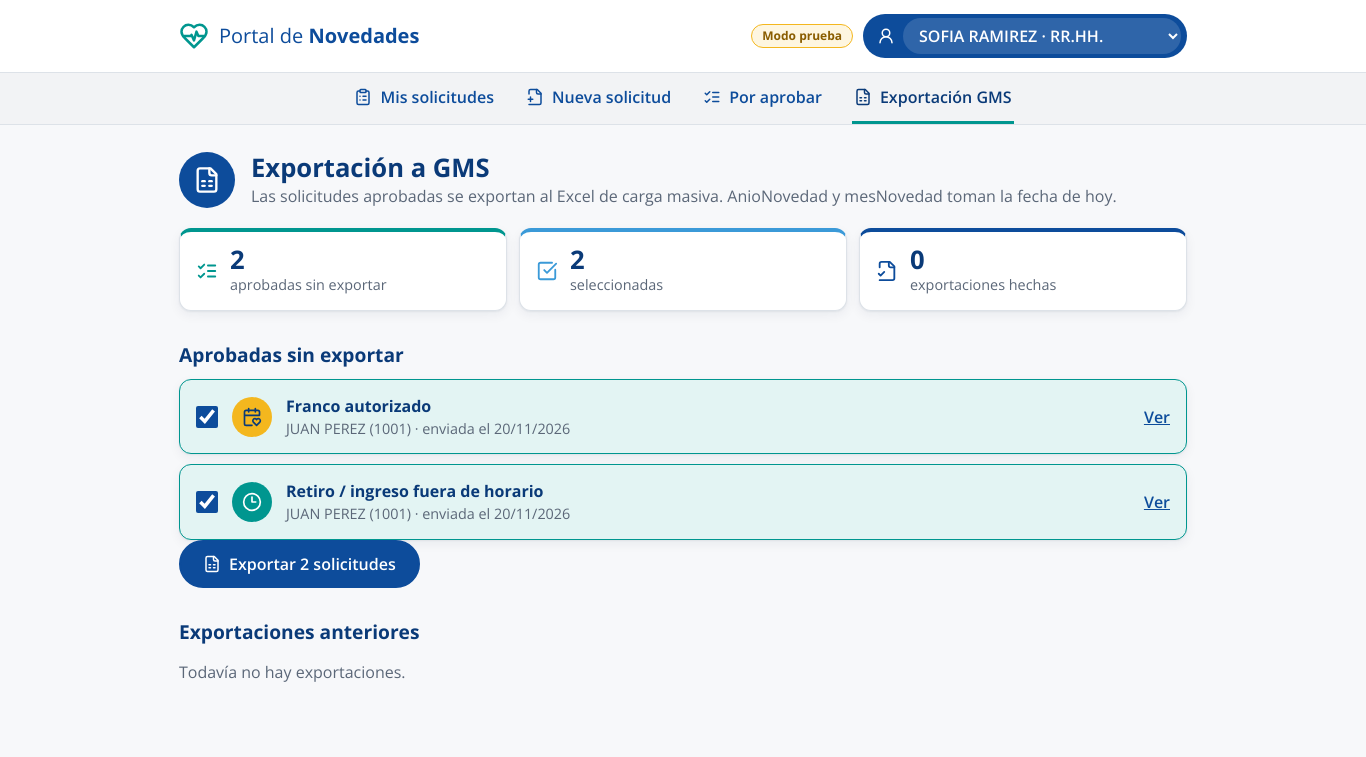
Test case: Exportación a GMS › pide confirmación, exporta las elegidas y muestra el lote
Click the button "Exportar 2 solicitudes" at (299, 564), box left=179, top=540, right=420, bottom=588
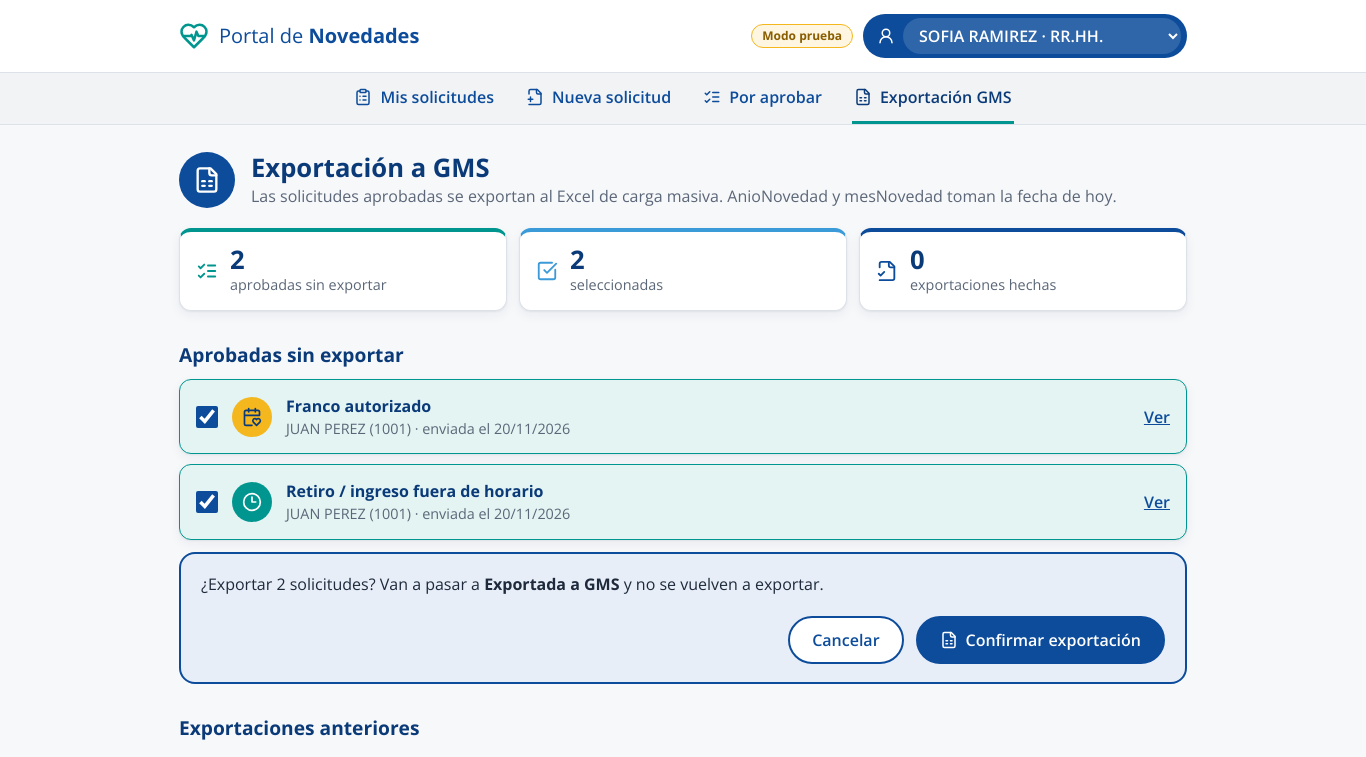
Check: the text "Exportada a GMS" is shown, box left=484, top=573, right=620, bottom=595
Click the button "Confirmar exportación" at (1040, 640), box left=916, top=616, right=1165, bottom=664
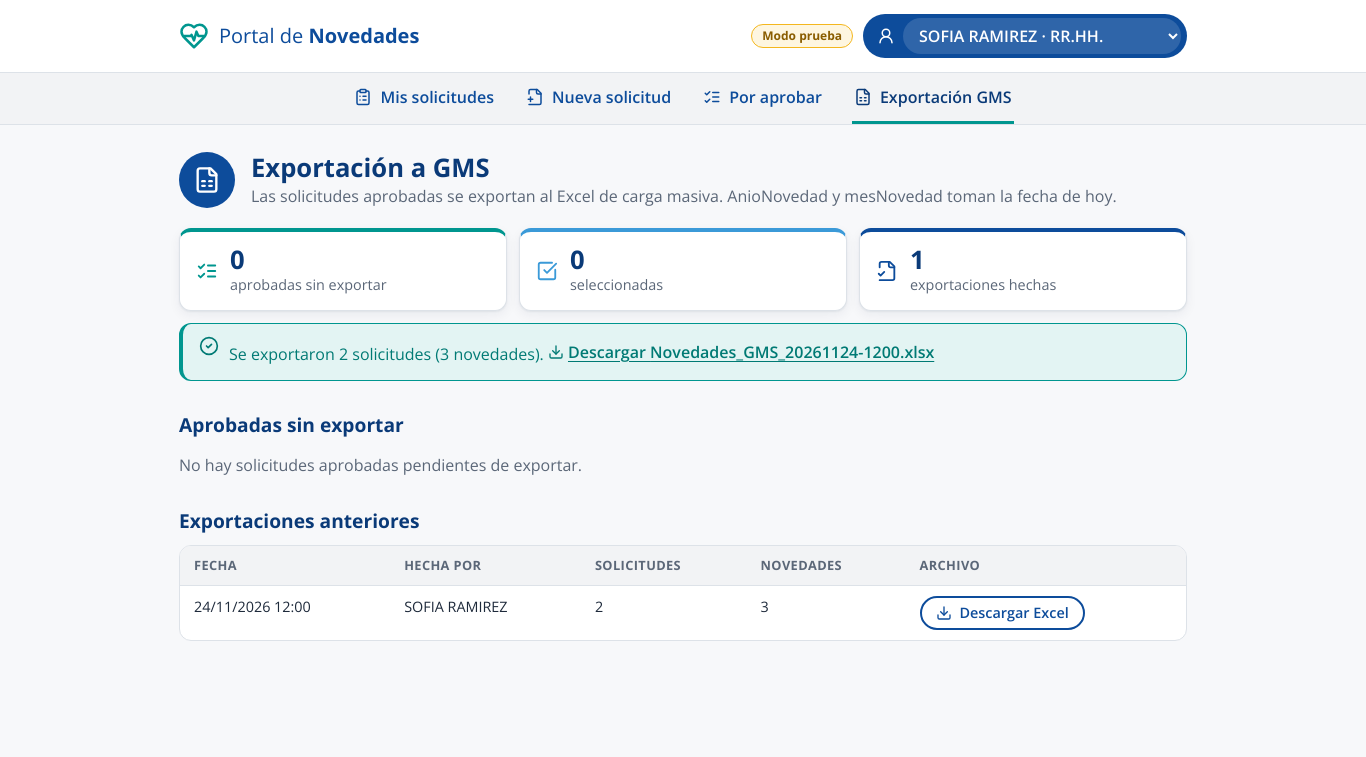
Check: the text "Se exportaron 2 solicitudes (3 novedades)" is shown, box left=229, top=336, right=934, bottom=368
Check: the text "No hay solicitudes aprobadas pendientes de exportar." is shown, box left=179, top=454, right=582, bottom=476
Check: the button "Descargar Excel" is shown, box left=920, top=596, right=1085, bottom=630
